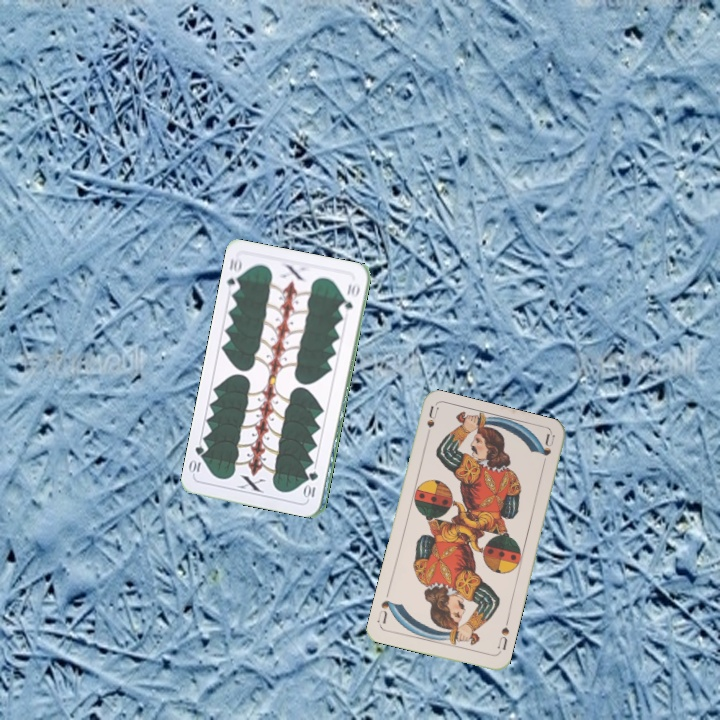G10: (223, 255, 245, 295), (303, 467, 321, 501)
SU: (422, 403, 441, 444), (493, 616, 512, 656)
